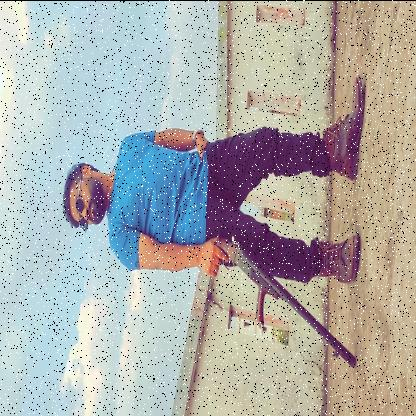rifle: (207, 229, 358, 369)
